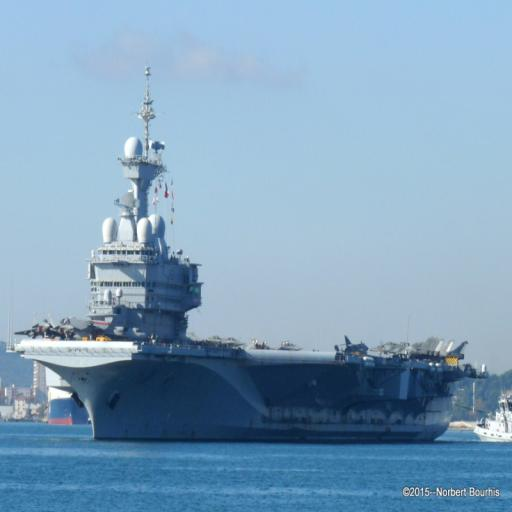Portanaves: (17, 59, 476, 444)
